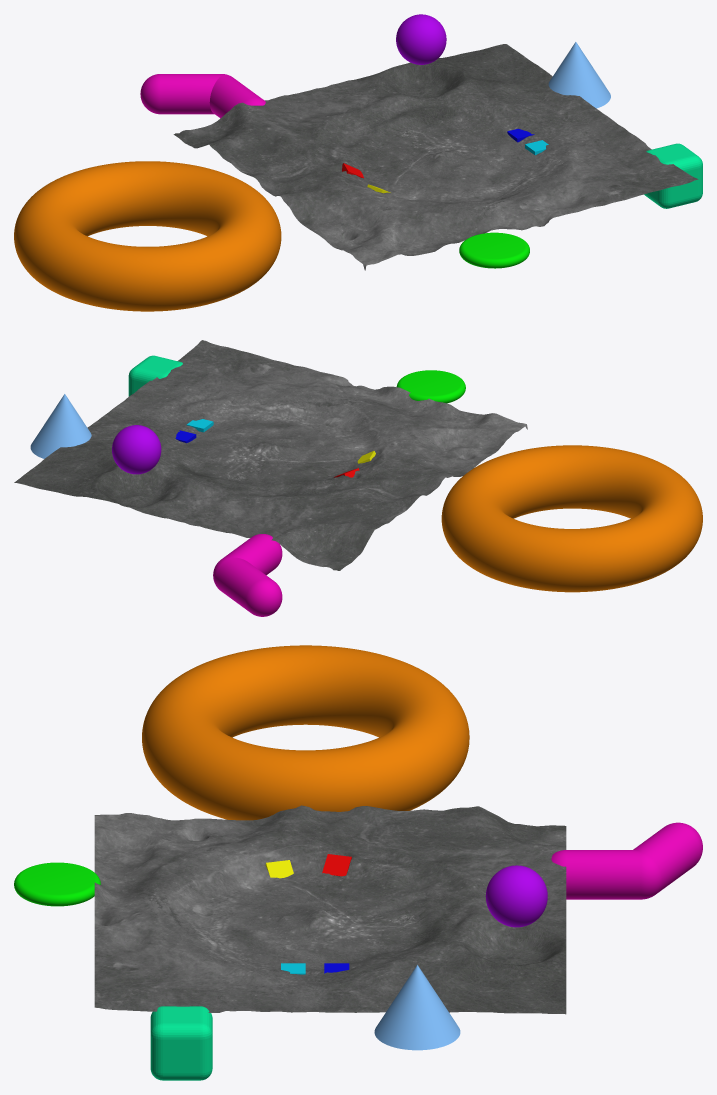
Rendered from moon_petavius_crater.glb.
3 views of the same model, one above another, from view 1: azimuth 30°, elevation 25°; view 2: azimuth 150°, elevation 25°; view 3: azimuth 270°, elevation 25° (orthographic). The views are drawn at different scales.
Visible parts, largest first — view 1: MoonPetaviusCraterMesh, TorusGravityMesh, LineGravityCapsuleMesh, LineGravityConeMesh, ShapedGravityCubeMesh, DiscGravityMesh, PointGravitySphereMesh; view 2: MoonPetaviusCraterMesh, TorusGravityMesh, LineGravityCapsuleMesh, LineGravityConeMesh, PointGravitySphereMesh, DiscGravityMesh, ShapedGravityCubeMesh; view 3: MoonPetaviusCraterMesh, TorusGravityMesh, LineGravityCapsuleMesh, ShapedGravityCubeMesh, LineGravityConeMesh, PointGravitySphereMesh, DiscGravityMesh.
Boxes of the visible parts, box(x1,y1,x2,y2) form: MoonPetaviusCraterMesh: box(173, 44, 698, 270); TorusGravityMesh: box(14, 161, 281, 311); LineGravityCapsuleMesh: box(140, 74, 265, 118); LineGravityConeMesh: box(548, 42, 610, 108); ShapedGravityCubeMesh: box(644, 143, 702, 208); DiscGravityMesh: box(459, 232, 529, 268); PointGravitySphereMesh: box(396, 14, 446, 64); MoonPetaviusCraterMesh: box(14, 340, 527, 570); TorusGravityMesh: box(441, 445, 702, 592); LineGravityCapsuleMesh: box(213, 534, 282, 616); LineGravityConeMesh: box(30, 394, 91, 458); PointGravitySphereMesh: box(112, 425, 161, 474); DiscGravityMesh: box(396, 370, 465, 403); ShapedGravityCubeMesh: box(128, 355, 182, 396); MoonPetaviusCraterMesh: box(94, 805, 566, 1014); TorusGravityMesh: box(142, 645, 469, 820); LineGravityCapsuleMesh: box(551, 822, 702, 899); ShapedGravityCubeMesh: box(150, 1006, 212, 1080); LineGravityConeMesh: box(374, 965, 460, 1050); PointGravitySphereMesh: box(485, 865, 547, 927); DiscGravityMesh: box(14, 862, 100, 906).
Size of the model in its own units: 70.66 by 12 by 55.5.
11 materials, 1 textured.
